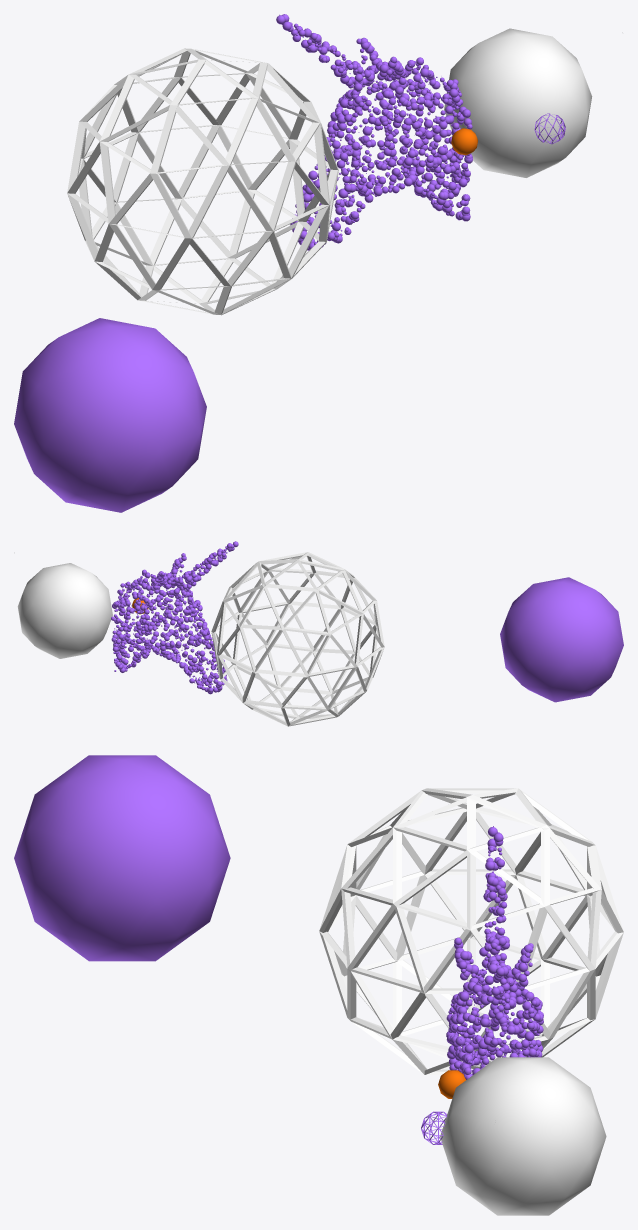
The model's file is unicorn1.glb.
The picture shows the model from 3 angles, top to bottom: view 1: azimuth 30°, elevation 25°; view 2: azimuth 150°, elevation 25°; view 3: azimuth 270°, elevation 25°; orthographic projection. The views are drawn at different scales.
Parts seen in each view (by area): view 1: Icosphere.002, Icosphere, Icosphere.001; view 2: Icosphere.002, Icosphere, Icosphere.001; view 3: Icosphere.002, Icosphere, Icosphere.001.
Part boxes in pixels (<box>): Icosphere.002: <box>67,48,338,315</box>; Icosphere: <box>14,318,206,512</box>; Icosphere.001: <box>444,28,592,177</box>; Icosphere.002: <box>211,552,384,726</box>; Icosphere: <box>500,577,623,702</box>; Icosphere.001: <box>17,563,112,658</box>; Icosphere.002: <box>319,788,623,1074</box>; Icosphere: <box>14,755,230,961</box>; Icosphere.001: <box>440,1057,606,1215</box>.
Bounding box in the file's own units: 10.69 × 3.79 × 6.73.
